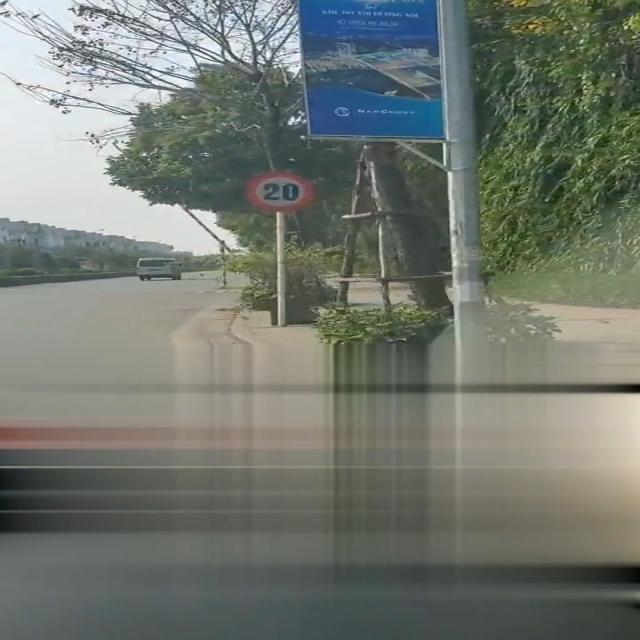127-toc-do-toi-da-20: (246, 171, 316, 213)
